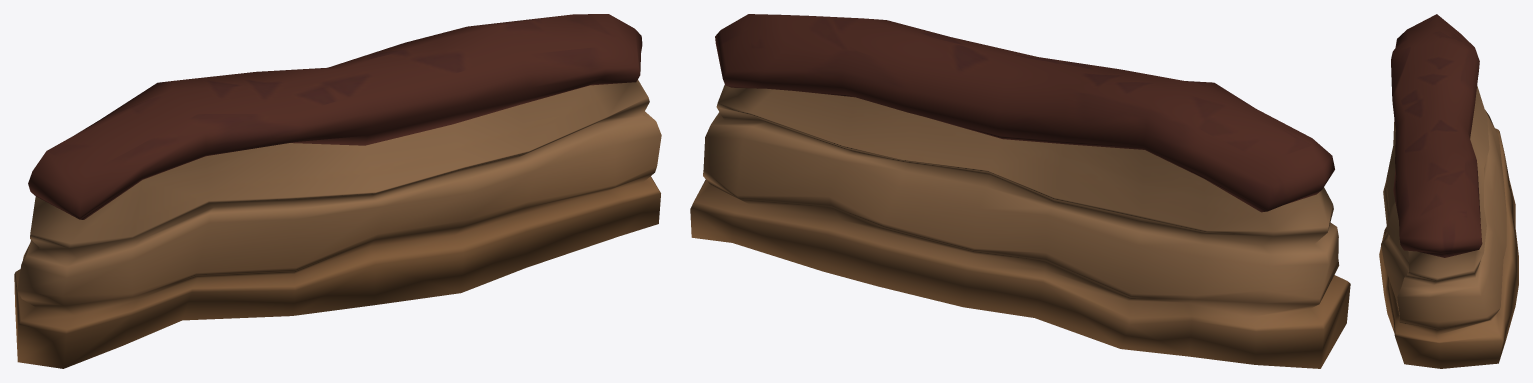
File: environment_cliff_variation_c.fbx
3 views of the same model, side by side, from view 1: azimuth 30°, elevation 25°; view 2: azimuth 150°, elevation 25°; view 3: azimuth 270°, elevation 25° (orthographic). The views are drawn at different scales.
Parts seen in each view (by area): view 1: pCube3; view 2: pCube3; view 3: pCube3.
Part boxes in pixels (x1,y1,x2,y2): pCube3: (14, 14, 661, 368); pCube3: (690, 14, 1350, 368); pCube3: (1379, 14, 1518, 368).
Size of the model in its own units: 1897 by 694 by 510.
